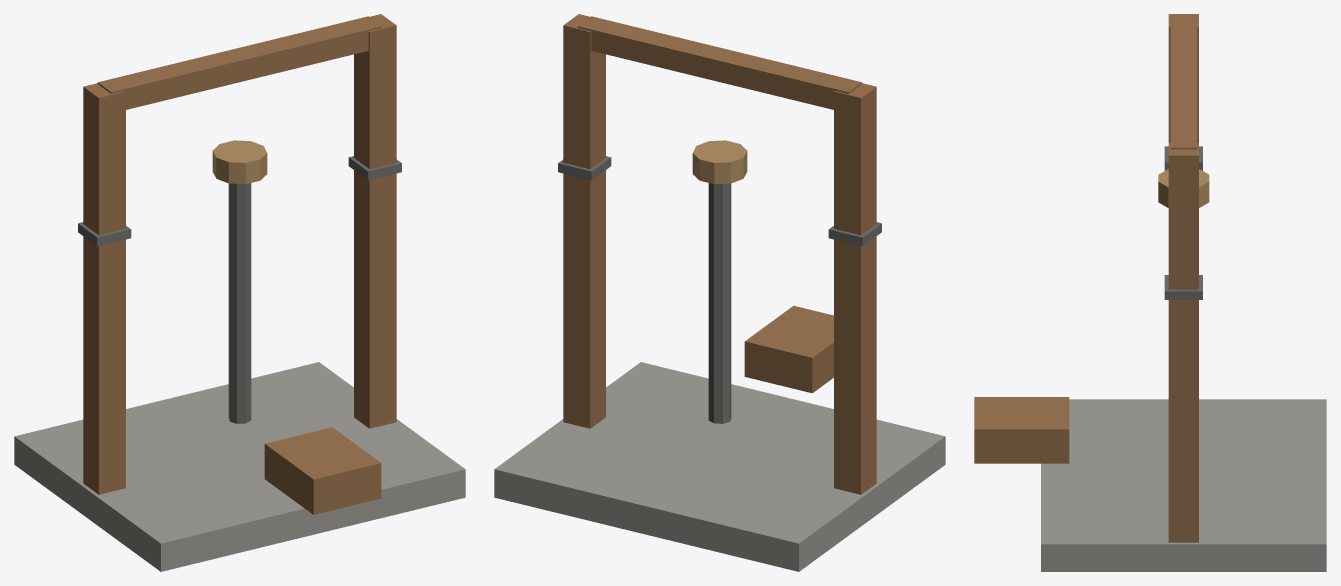
The model's file is vf_quarry.glb.
3 views of the same model, side by side, from view 1: azimuth 30°, elevation 25°; view 2: azimuth 150°, elevation 25°; view 3: azimuth 270°, elevation 25° (orthographic). The views are drawn at different scales.
Parts seen in each view (by area): view 1: Static_Oak, Static_Stone, Drill_Iron, Drill_Bronze, Static_Iron; view 2: Static_Stone, Static_Oak, Drill_Iron, Drill_Bronze, Static_Iron; view 3: Static_Stone, Static_Oak, Static_Iron, Drill_Bronze.
Part boxes in pixels (x1=…): Static_Oak: x1=83, y1=14, x2=396, y2=514; Static_Stone: x1=14, y1=362, x2=465, y2=571; Drill_Iron: x1=228, y1=183, x2=251, y2=423; Drill_Bronze: x1=212, y1=140, x2=267, y2=184; Static_Iron: x1=78, y1=156, x2=401, y2=246; Static_Stone: x1=494, y1=362, x2=945, y2=571; Static_Oak: x1=563, y1=14, x2=876, y2=494; Drill_Iron: x1=708, y1=183, x2=731, y2=423; Drill_Bronze: x1=692, y1=140, x2=747, y2=184; Static_Iron: x1=558, y1=156, x2=881, y2=246; Static_Stone: x1=1041, y1=399, x2=1326, y2=571; Static_Oak: x1=974, y1=14, x2=1198, y2=542; Static_Iron: x1=1164, y1=146, x2=1202, y2=299; Drill_Bronze: x1=1158, y1=169, x2=1209, y2=207.
Bounding box in the file's own units: 1.8 × 2.41 × 1.85.
